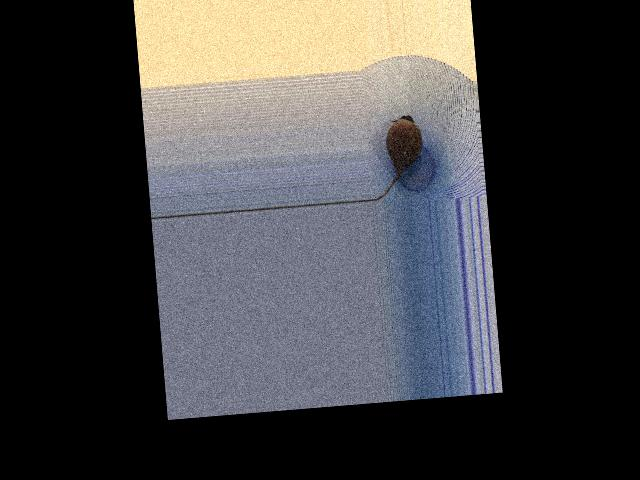beet: (364, 113, 426, 200)
